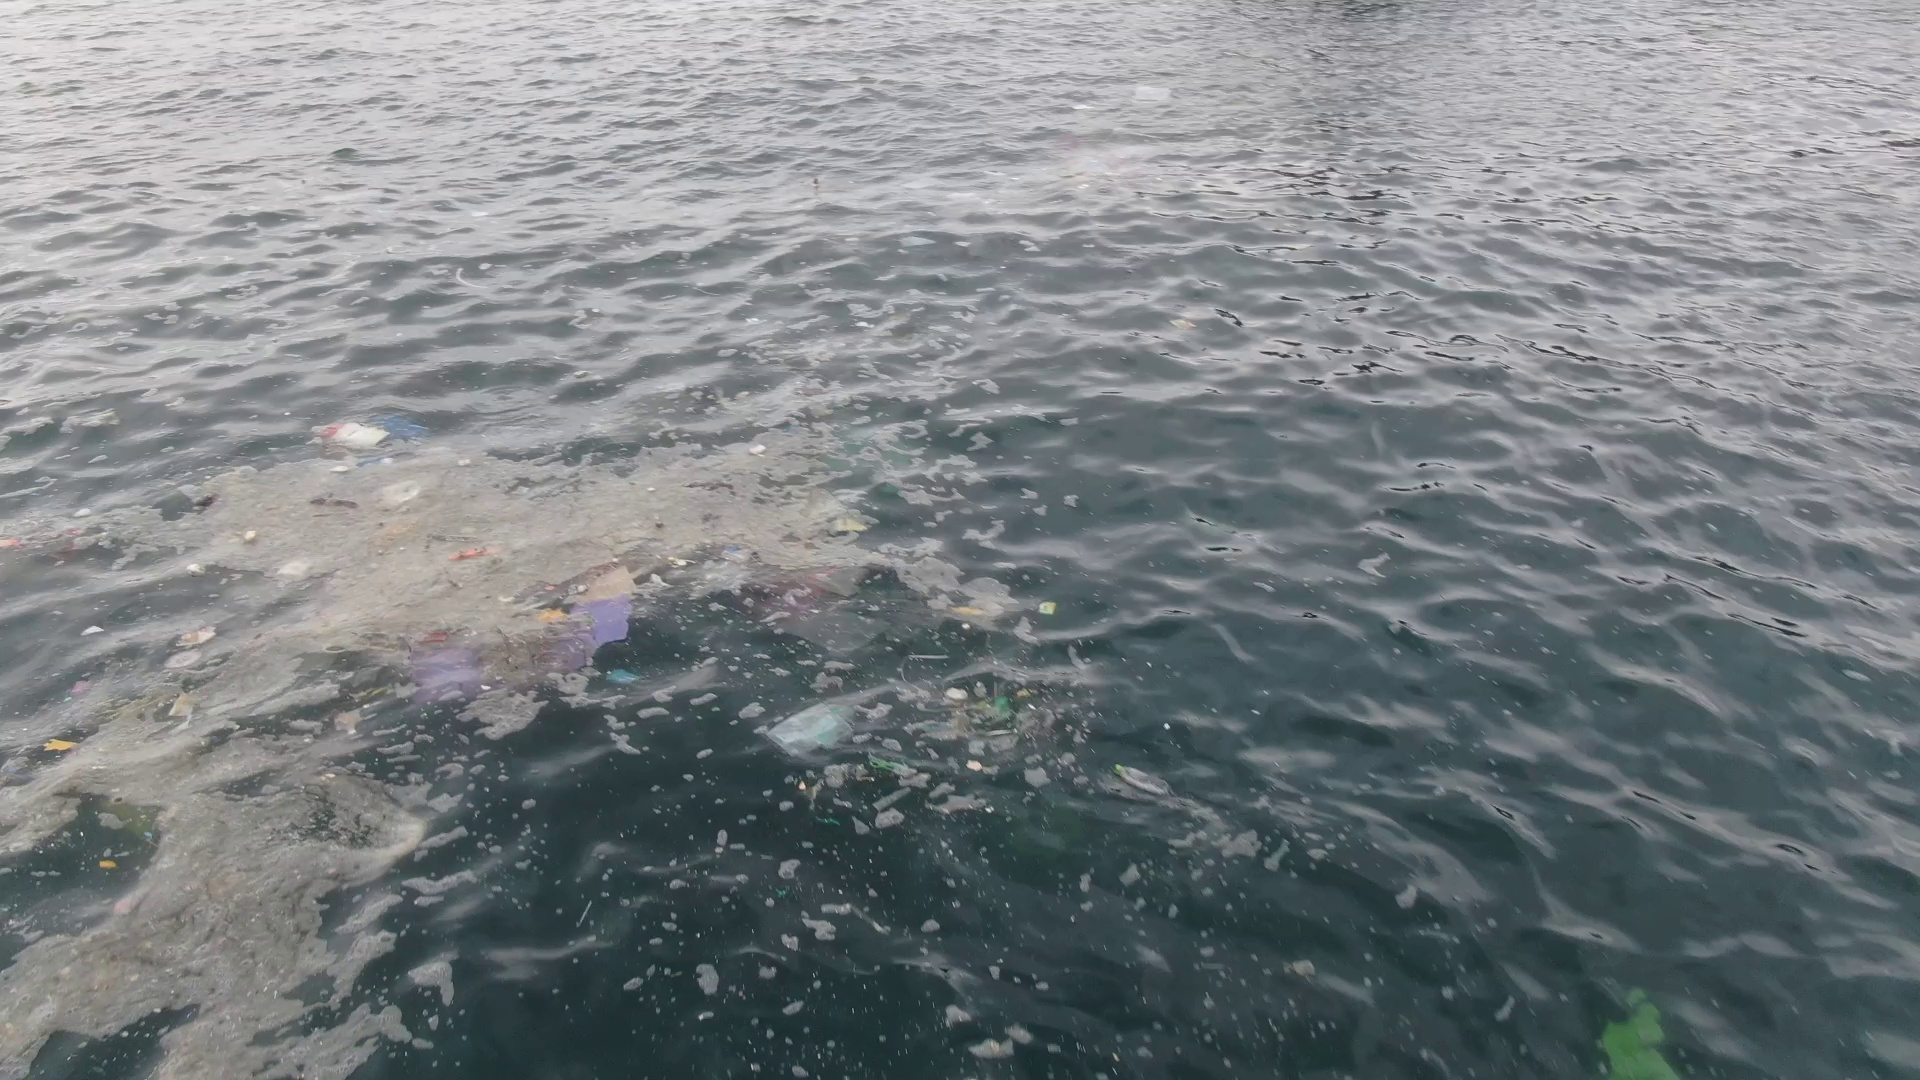garbage: (5, 397, 1079, 793), (1134, 84, 1171, 103), (1168, 316, 1196, 330), (1072, 102, 1096, 109)
